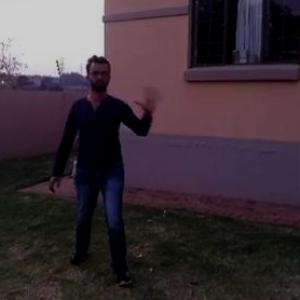follow_hand: (134, 83, 165, 116)
